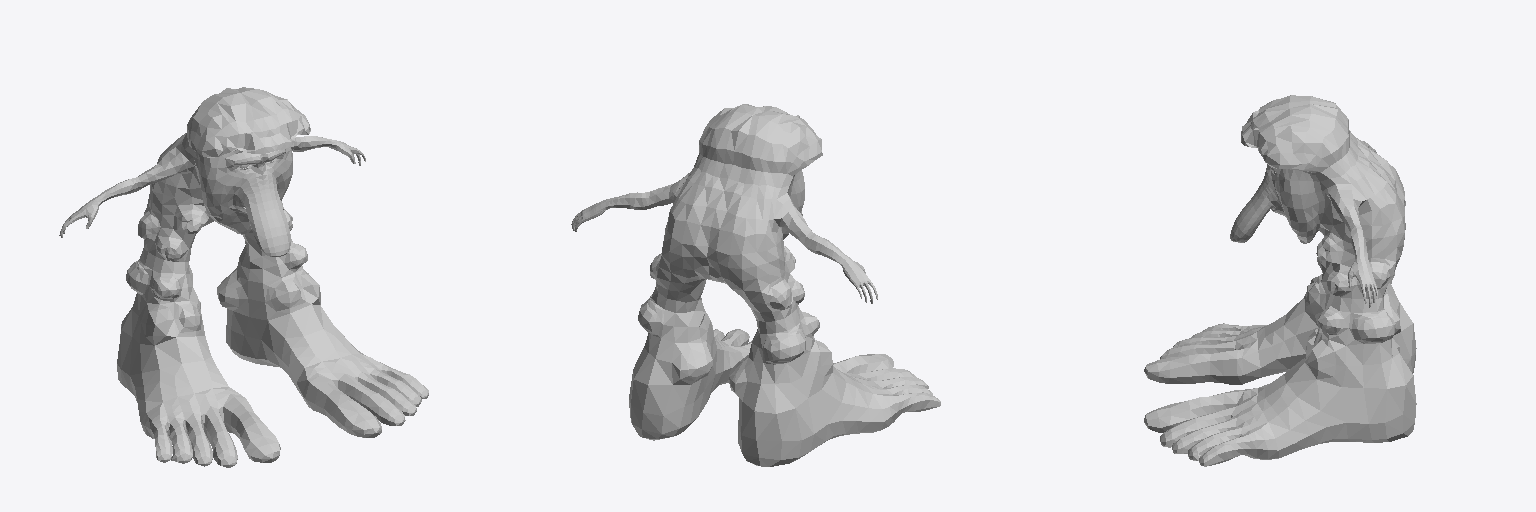
File: patapim.obj
The picture shows the model from 3 angles: view 1: azimuth 30°, elevation 25°; view 2: azimuth 150°, elevation 25°; view 3: azimuth 270°, elevation 25°; orthographic projection.
Parts seen in each view (by area): view 1: Body_LP; view 2: Body_LP; view 3: Body_LP.
Part boxes in pixels (left/top/right/bottom): Body_LP: left=59, top=87, right=428, bottom=467; Body_LP: left=571, top=104, right=940, bottom=466; Body_LP: left=1144, top=95, right=1416, bottom=466.
Size of the model in its own units: 1.06 by 1.01 by 0.816.